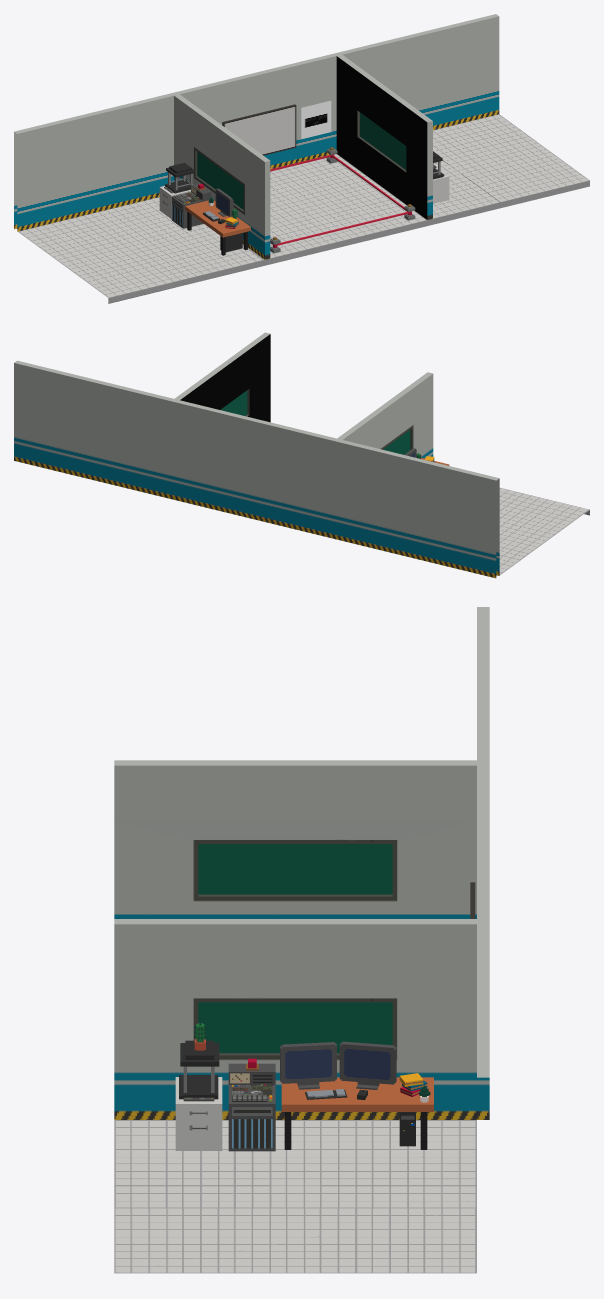
Rendered from scenegame_v04.fbx.
3 views of the same model, one above another, from view 1: azimuth 30°, elevation 25°; view 2: azimuth 150°, elevation 25°; view 3: azimuth 270°, elevation 25° (orthographic). The views are drawn at different scales.
Parts seen in each view (by area): view 1: scenegame_mesh_, window2_, window1_, motivational_frase_1, leaser_beam_; view 2: scenegame_mesh_, window2_, window1_; view 3: scenegame_mesh_, window1_, window2_.
Part boxes in pixels (left/top/right/bottom): scenegame_mesh_: left=14, top=14, right=589, bottom=303; window2_: left=360, top=112, right=406, bottom=169; window1_: left=197, top=152, right=243, bottom=209; motivational_frase_1: left=301, top=100, right=331, bottom=139; leaser_beam_: left=270, top=155, right=408, bottom=245; scenegame_mesh_: left=14, top=332, right=589, bottom=578; window2_: left=220, top=390, right=247, bottom=415; window1_: left=383, top=430, right=410, bottom=454; scenegame_mesh_: left=114, top=607, right=489, bottom=1273; window1_: left=198, top=844, right=392, bottom=894; window2_: left=198, top=1002, right=392, bottom=1053.
Bounding box in the file's own units: 6876 × 2320 × 1414.
